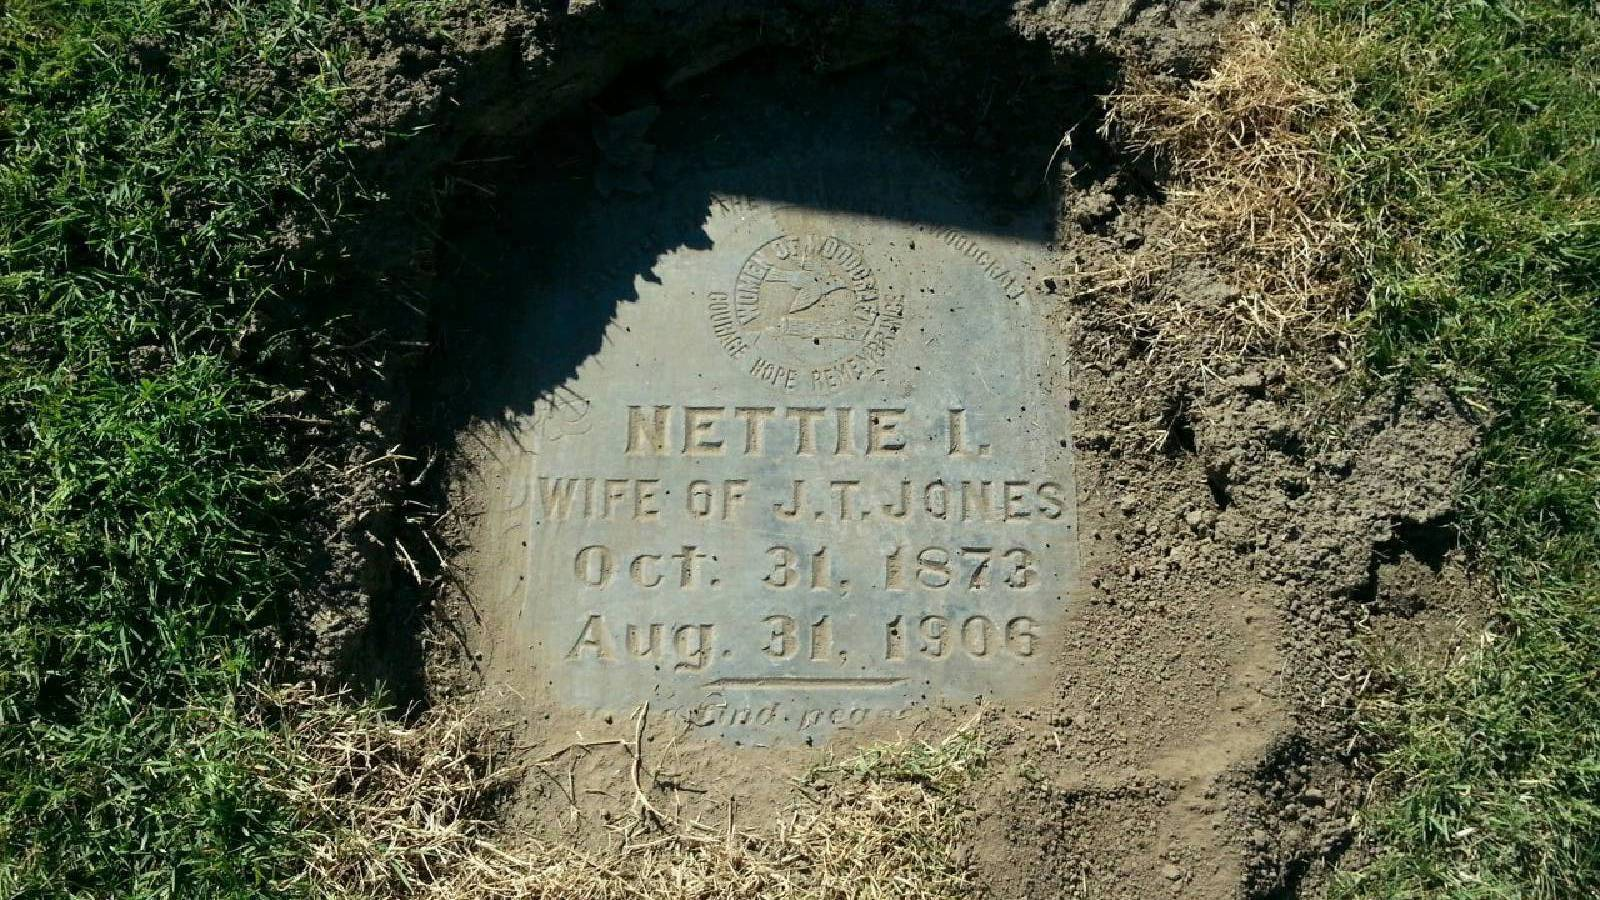flat: (384, 79, 1175, 825)
